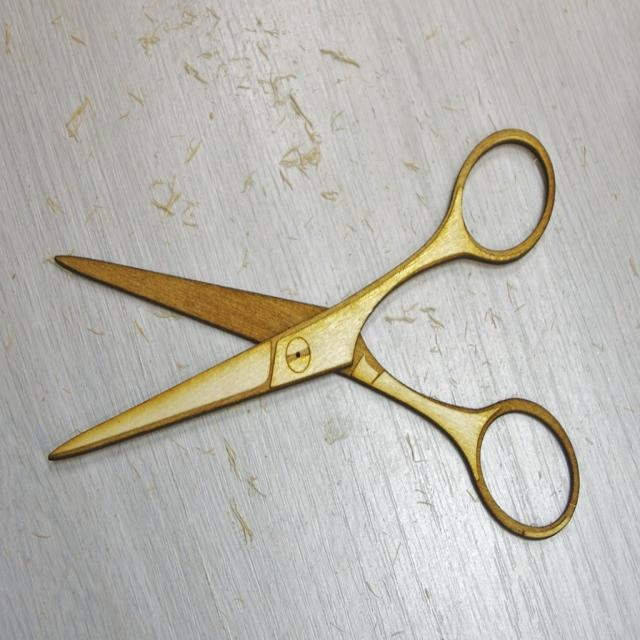scissors: (45, 126, 579, 540)
